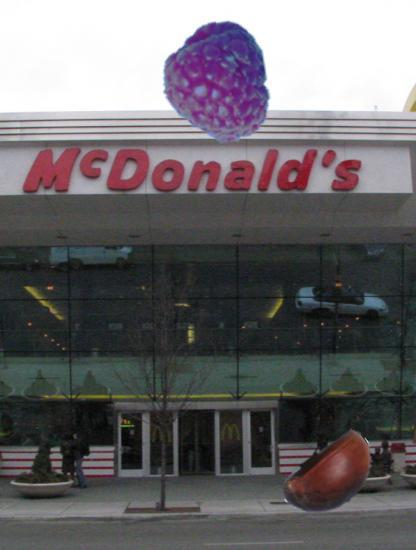Chestnut: (281, 427, 383, 529)
Raspberry: (152, 21, 278, 147)
